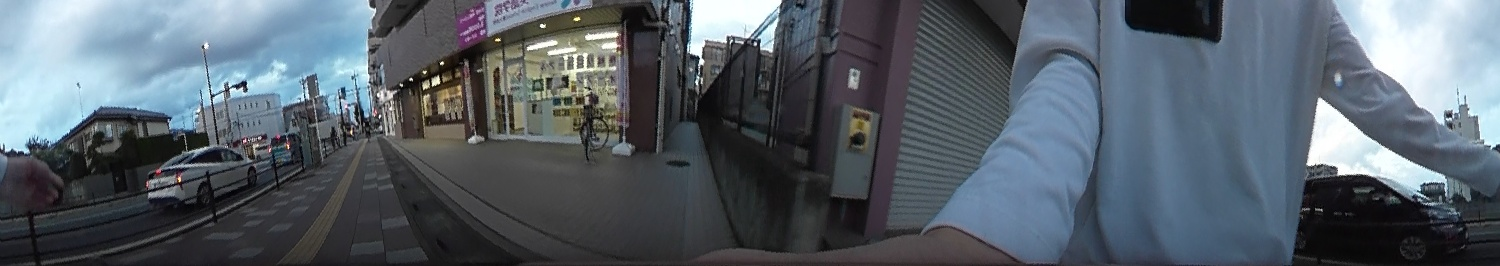difficult_person: (363, 117, 371, 140)
